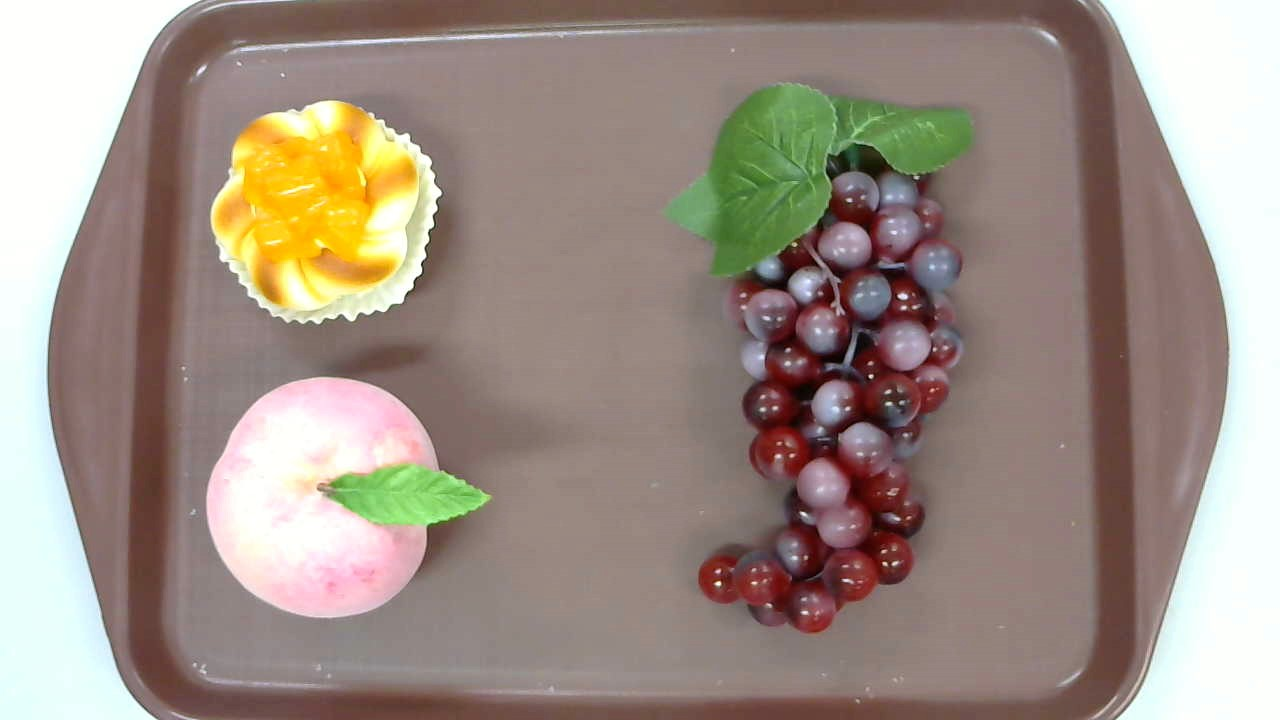grape: (659, 82, 979, 637)
mango tart: (209, 99, 443, 330)
peach: (203, 376, 491, 621)
